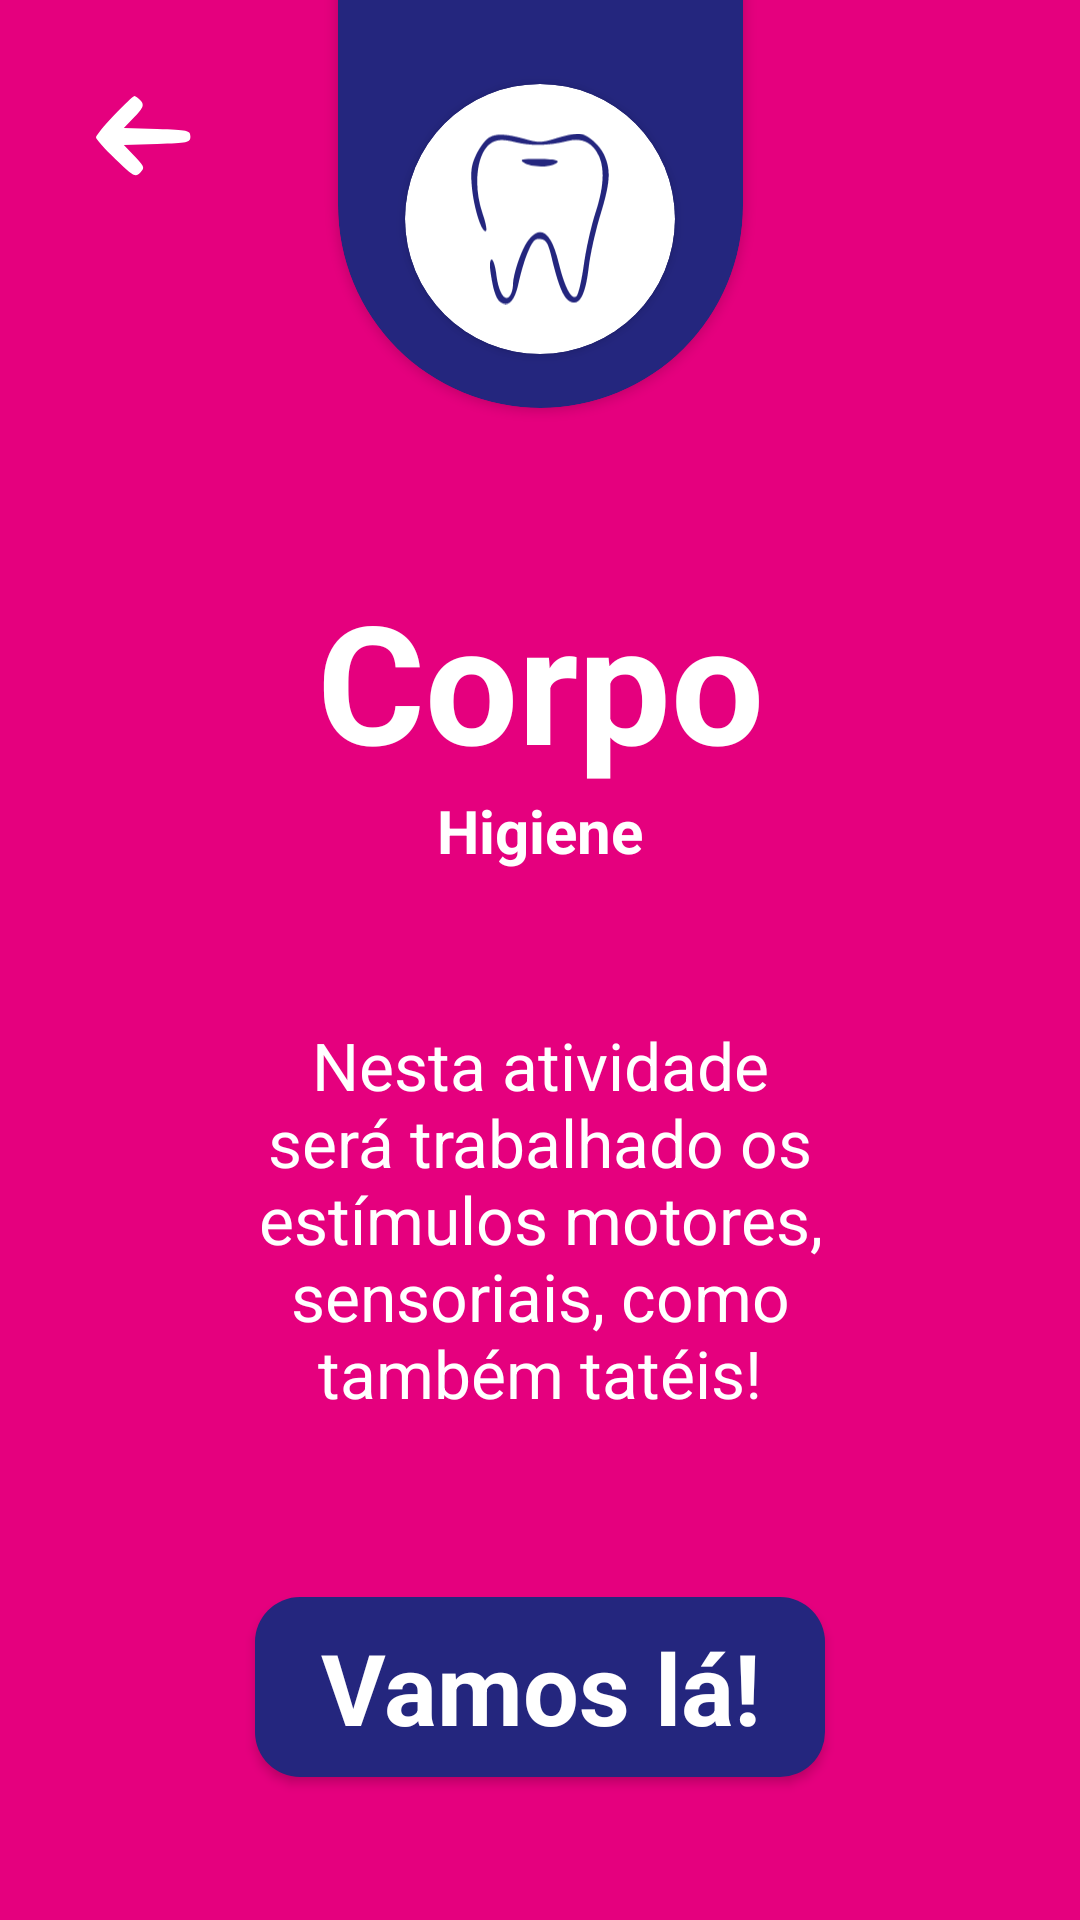

Icons on this 1080px×1920px Android screen, each with the point to tap as (x,y):
arrow: (143,136)
